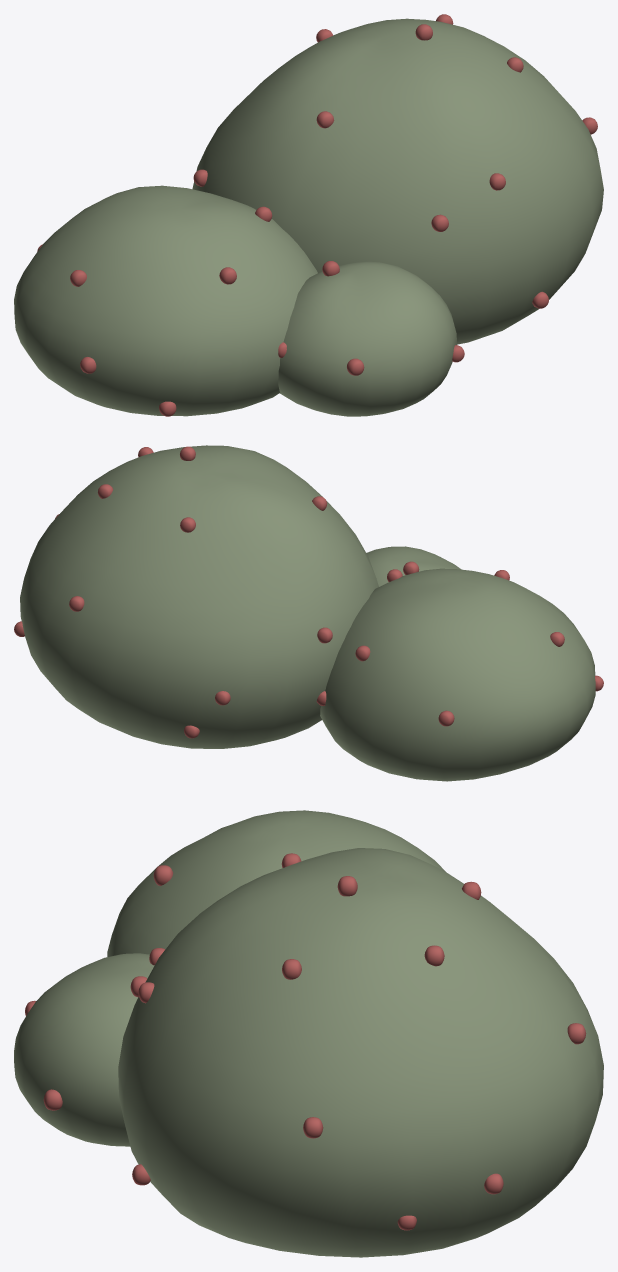
The model's file is Bushes.fbx.
3 renders of one model, top to bottom at view 1: azimuth 30°, elevation 25°; view 2: azimuth 150°, elevation 25°; view 3: azimuth 270°, elevation 25°, orthographic. The views are drawn at different scales.
Visible parts, largest first — view 1: pCube42; view 2: pCube42; view 3: pCube42.
Boxes of the visible parts, x1,y1,x2,y2 form: pCube42: (14, 14, 603, 416); pCube42: (14, 445, 603, 781); pCube42: (14, 810, 603, 1257).
Size of the model in its own units: 6.38 by 2.99 by 4.61.
